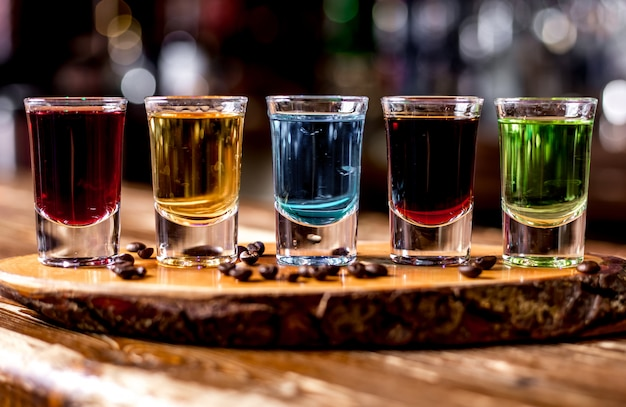alcohol: (262, 91, 369, 267), (22, 93, 128, 267), (493, 97, 600, 269), (144, 95, 248, 266), (380, 94, 485, 263)
